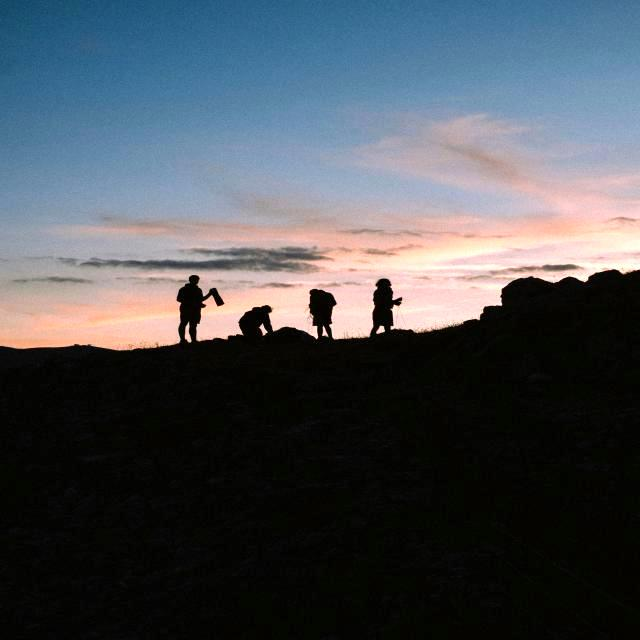no_head_wear: (189, 275, 200, 283), (261, 305, 273, 312), (310, 289, 320, 296), (377, 278, 390, 282)
person: (177, 275, 216, 343), (370, 279, 402, 337), (309, 289, 336, 340), (238, 305, 273, 339)
